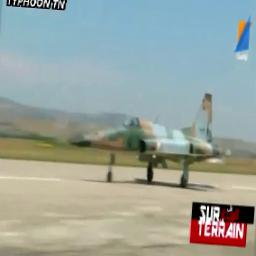Airplane: (68, 92, 231, 186)
